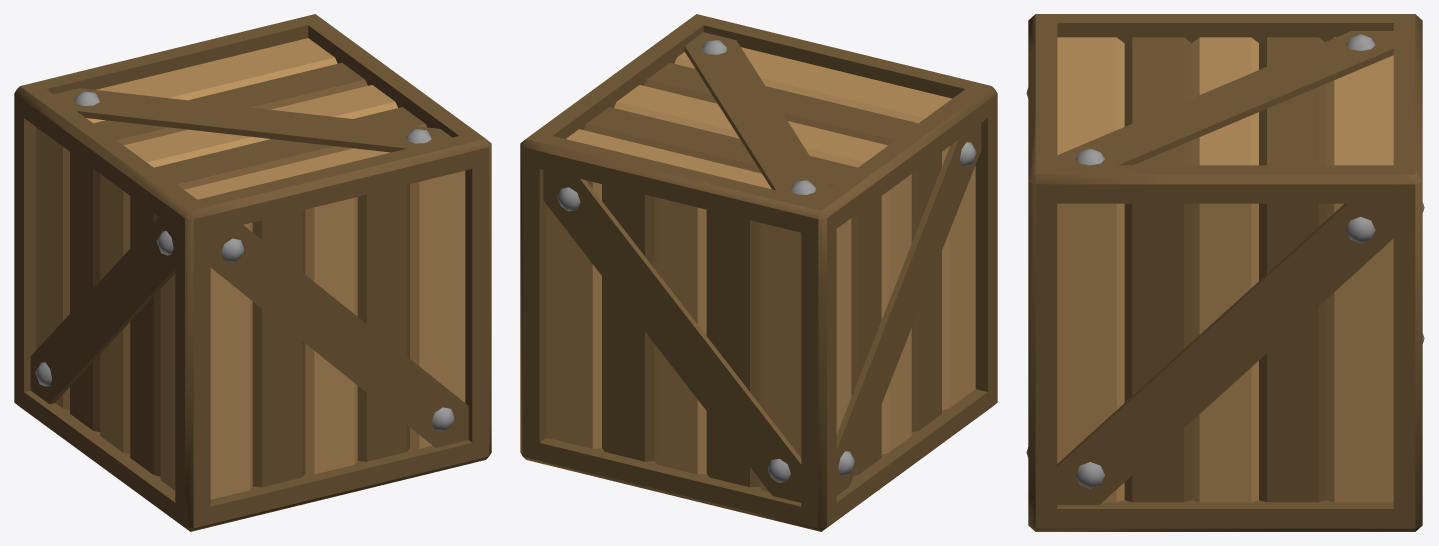
File: Crate-bkn.FBX
The picture shows the model from 3 angles, left to right: view 1: azimuth 30°, elevation 25°; view 2: azimuth 150°, elevation 25°; view 3: azimuth 270°, elevation 25°; orthographic projection. The views are drawn at different scales.
Visible parts, largest first — view 1: Crate_Part_5, Crate_Part_8, Crate_Part_4, Crate_Part_1, Crate_Part_2, Object010, Crate_Part_6, Object013, Object008; view 2: Crate_Part_8, Crate_Part_7, Crate_Part_2, Crate_Part_4, Object009, Crate_Part_5, Object008, Crate_Part_3, Object013, Crate_Part_6, Crate_Part_1; view 3: Crate_Part_7, Crate_Part_8, Crate_Part_1, Object011, Object013, Crate_Part_4, Crate_Part_6, Crate_Part_3.
Part boxes in pixels (x1,y1,x2,y2): Crate_Part_5: (116,322,481,531); Crate_Part_8: (14,17,426,211); Crate_Part_4: (71,136,323,417); Crate_Part_1: (341,96,491,425); Crate_Part_2: (14,153,127,479); Object010: (210,225,468,447); Crate_Part_6: (177,154,390,369); Object013: (54,88,451,152); Object008: (30,217,175,404); Crate_Part_8: (531,57,889,308); Crate_Part_7: (520,135,721,491); Crate_Part_2: (750,267,928,531); Crate_Part_4: (862,71,997,297); Object009: (543,170,801,502); Crate_Part_5: (911,288,997,455); Object008: (836,123,981,495); Crate_Part_3: (658,301,773,515); Object013: (684,32,829,199); Crate_Part_6: (775,44,932,132); Crate_Part_1: (638,14,819,78); Crate_Part_7: (1105,164,1422,531); Crate_Part_8: (1110,14,1422,389); Crate_Part_1: (1028,107,1168,493); Object011: (1057,203,1393,505); Object013: (1057,31,1393,165); Crate_Part_4: (1028,14,1262,65); Crate_Part_6: (1028,45,1176,127); Crate_Part_3: (1028,481,1132,531).
Bounding box in the file's own units: 101 × 101 × 101.
